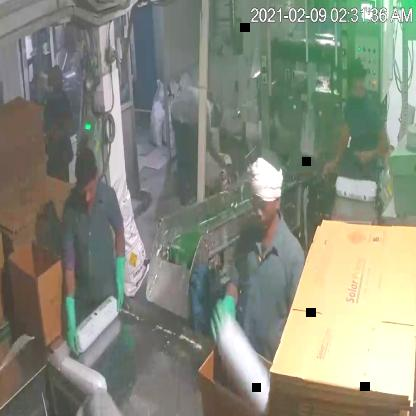glove: (57, 282, 87, 364), (106, 245, 135, 325), (206, 288, 243, 349)
no_glove: (318, 120, 356, 184)
